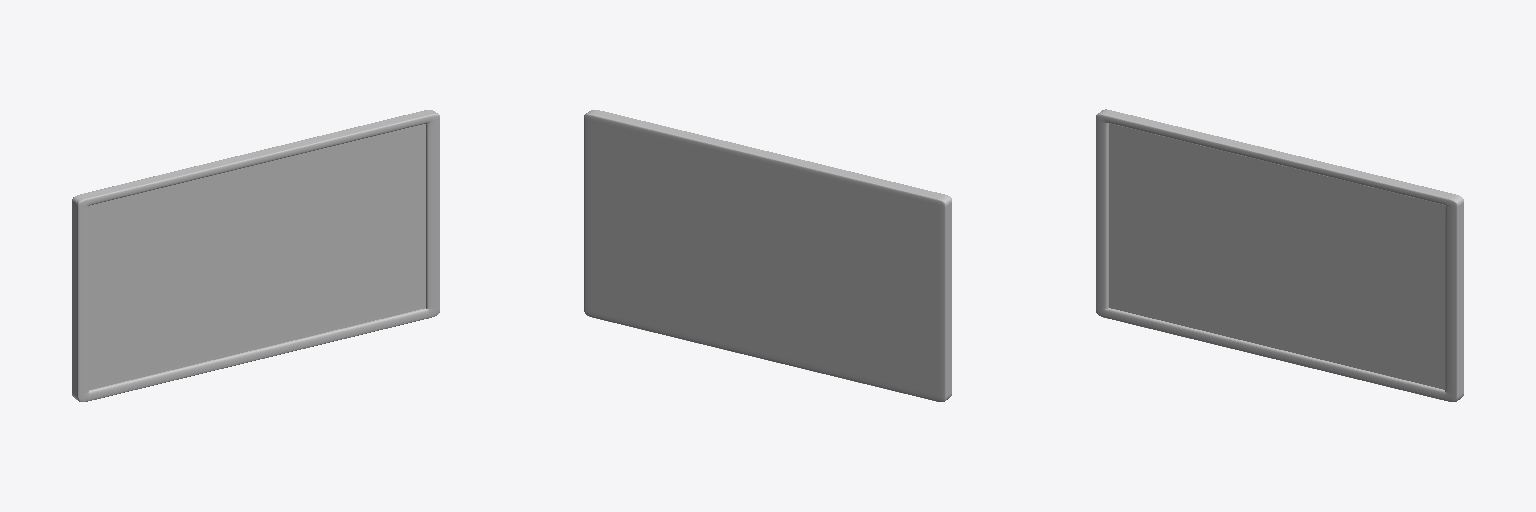
3 views of the same model, side by side, from view 1: azimuth 30°, elevation 25°; view 2: azimuth 150°, elevation 25°; view 3: azimuth 330°, elevation 25° (orthographic).
Visible parts, largest first — view 1: TV; view 2: TV; view 3: TV.
Part boxes in pixels (bbox=[...]): TV: bbox=[72, 110, 439, 401]; TV: bbox=[584, 110, 951, 401]; TV: bbox=[1096, 109, 1463, 401].
Size of the model in its own units: 125 by 67.07 by 4.53.